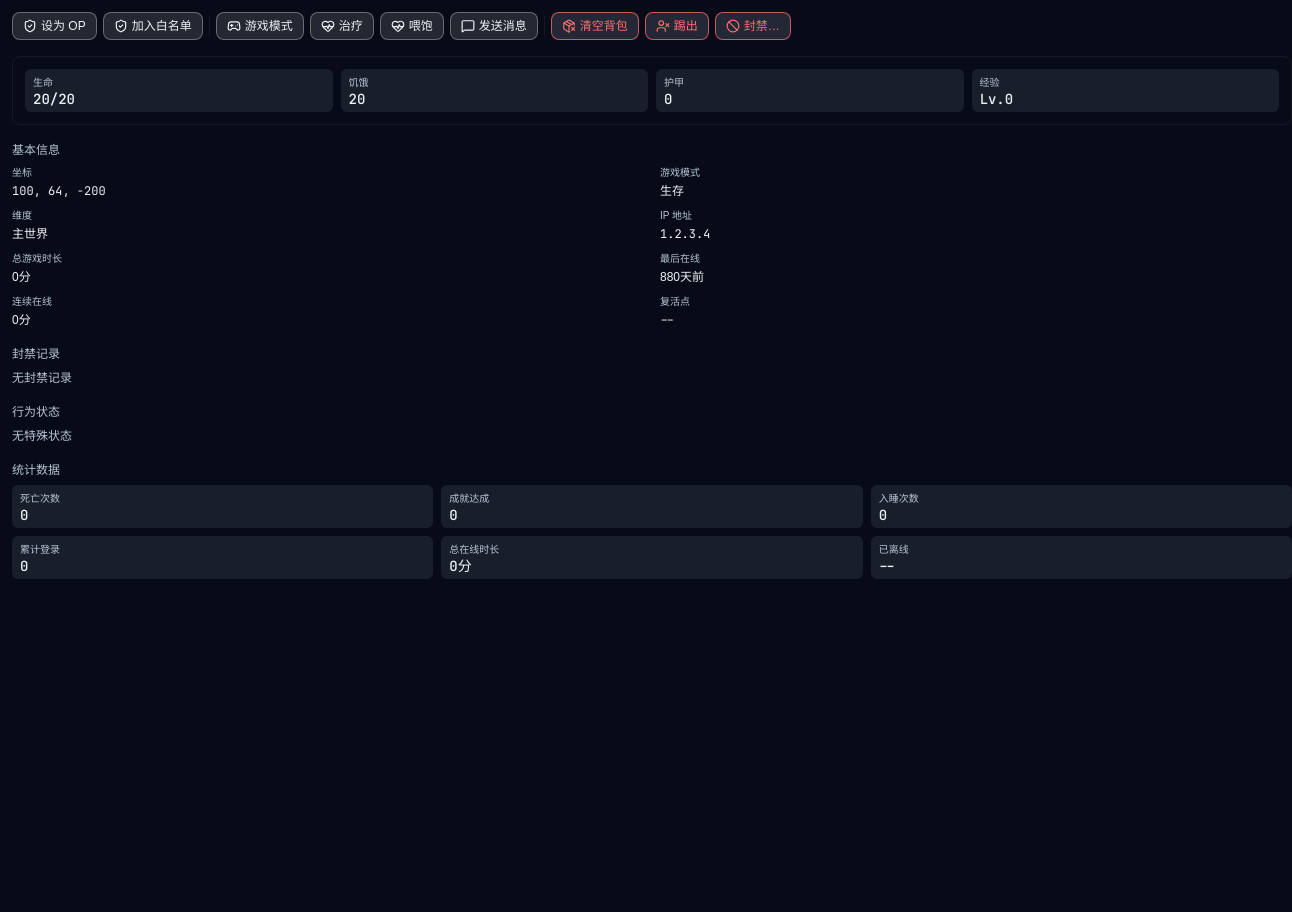
OverviewTab 不可逆 / 无逆操作 › 踢出直执（无逆操作 → 不挂撤销入口），成功回执不带「撤销」
Click the button "踢出". click: (677, 26)
box: [645, 12, 709, 40]
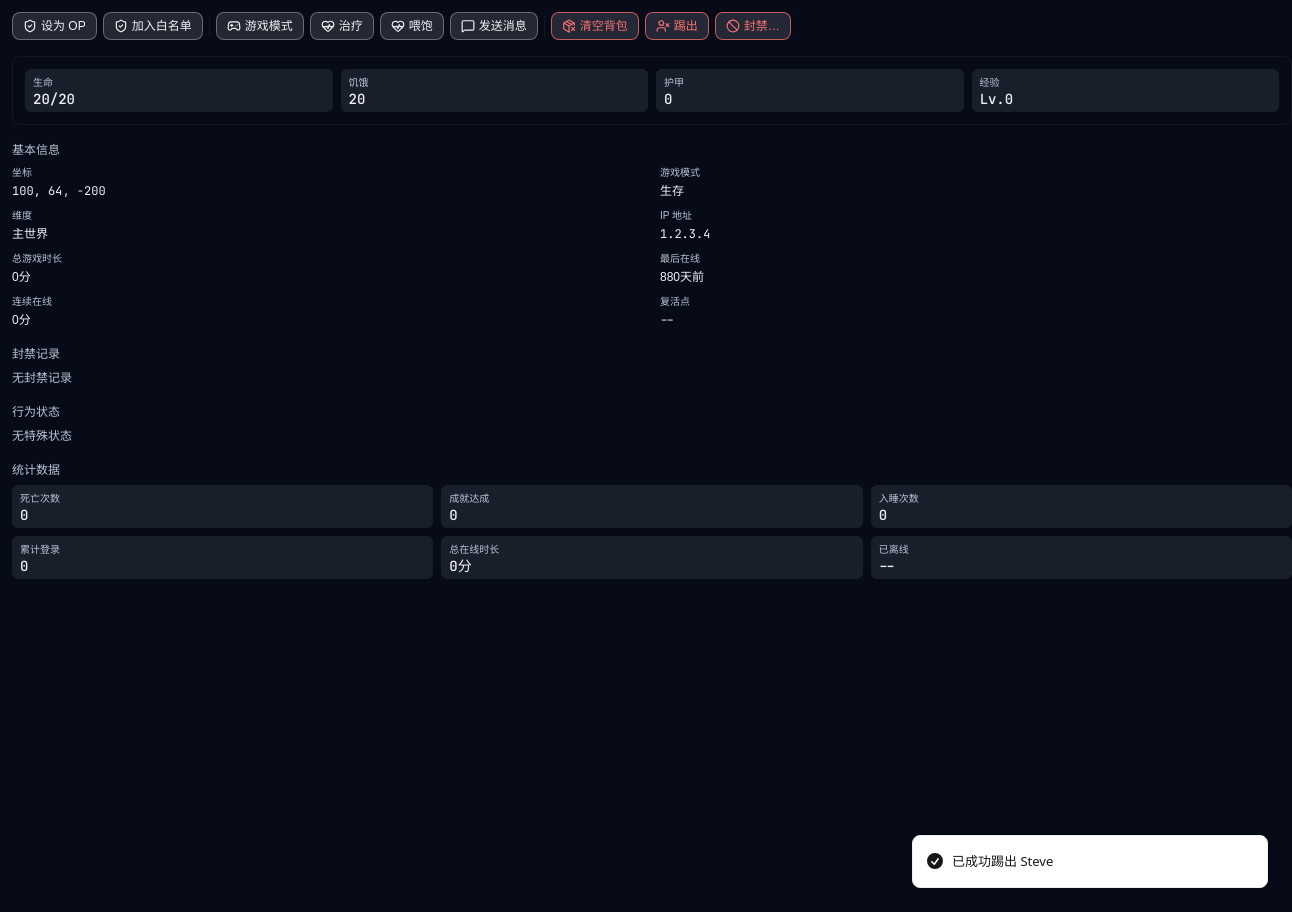
Check: the text "已成功踢出 Steve" is shown, box [952, 852, 1053, 871]
